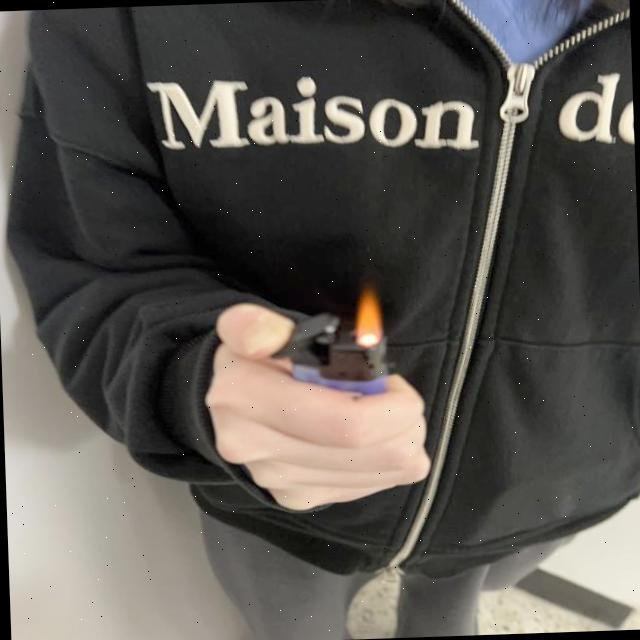fire: (356, 286, 383, 348)
